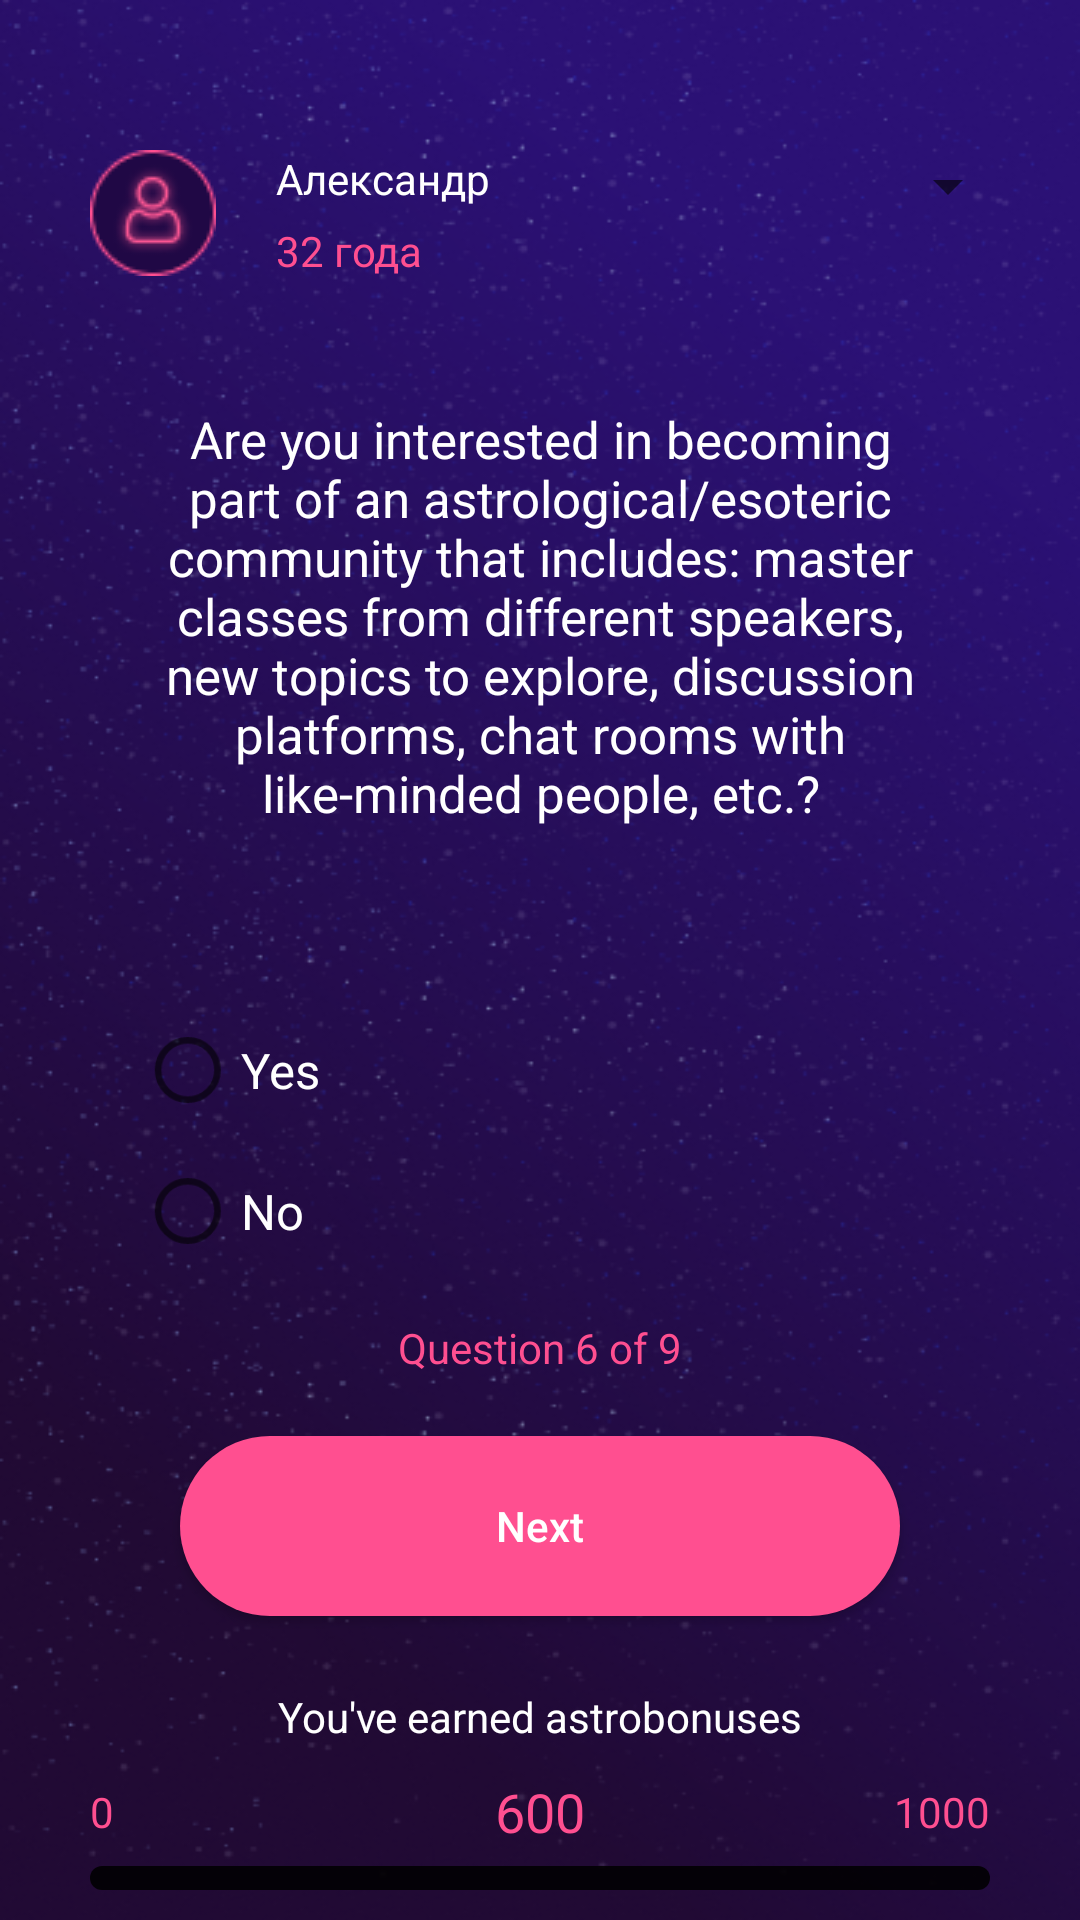

Icon bounding boxes for this 1080×1920 phone screenshot, format [x1=x1, y1=y1, x2=x2, y2=y2]:
user: [x1=90, y1=150, x2=216, y2=276]
